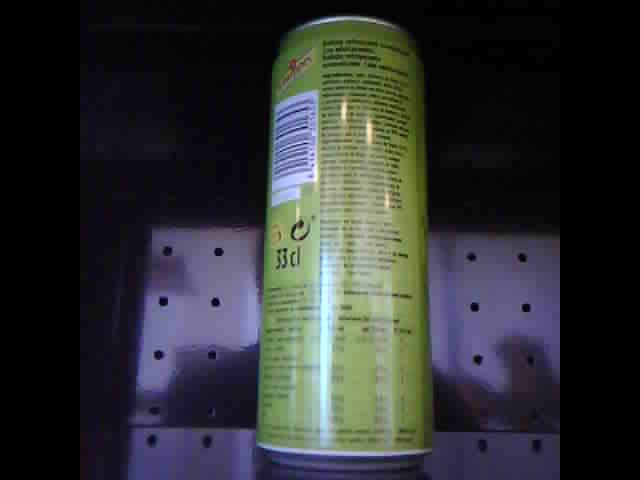schweppes: (252, 14, 443, 473)
